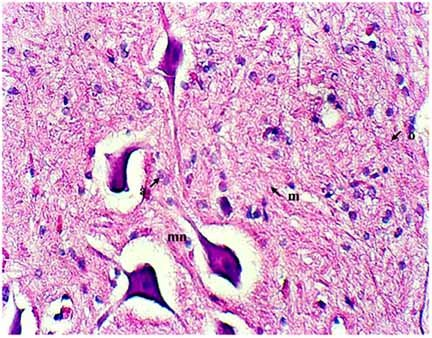neuron: (102, 140, 150, 200)
